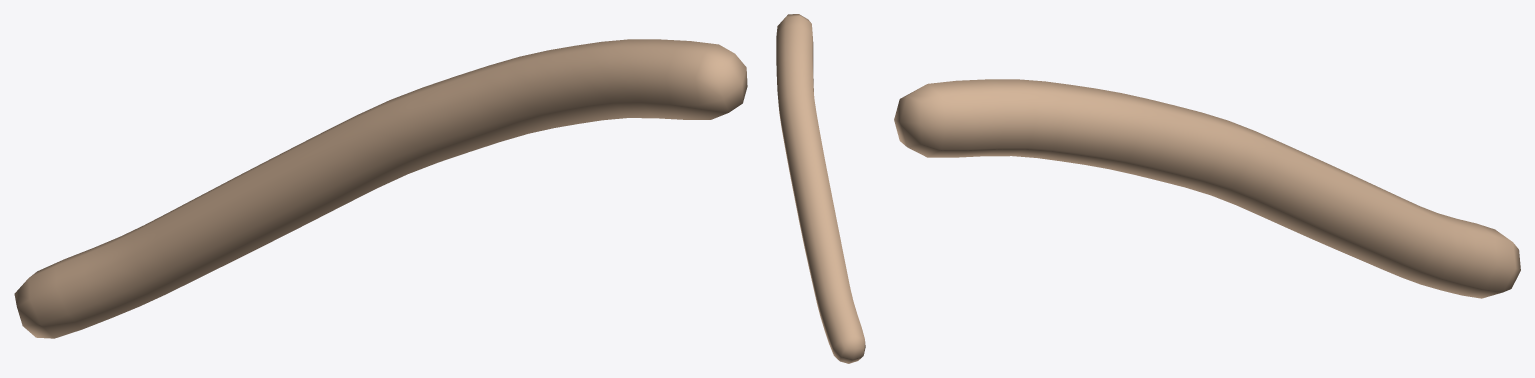
The picture shows the model from 3 angles, left to right: view 1: azimuth 30°, elevation 25°; view 2: azimuth 150°, elevation 25°; view 3: azimuth 270°, elevation 25°; orthographic projection. The views are drawn at different scales.
Visible parts, largest first — view 1: 右侧拇长伸肌腱鞘; view 2: 右侧拇长伸肌腱鞘; view 3: 右侧拇长伸肌腱鞘.
Boxes of the visible parts, box(x1,y1,x2,y2) form: 右侧拇长伸肌腱鞘: box(14, 39, 747, 338); 右侧拇长伸肌腱鞘: box(776, 14, 865, 363); 右侧拇长伸肌腱鞘: box(894, 79, 1520, 298).
Size of the model in its own units: 0.0503 by 0.0423 by 0.0611.
